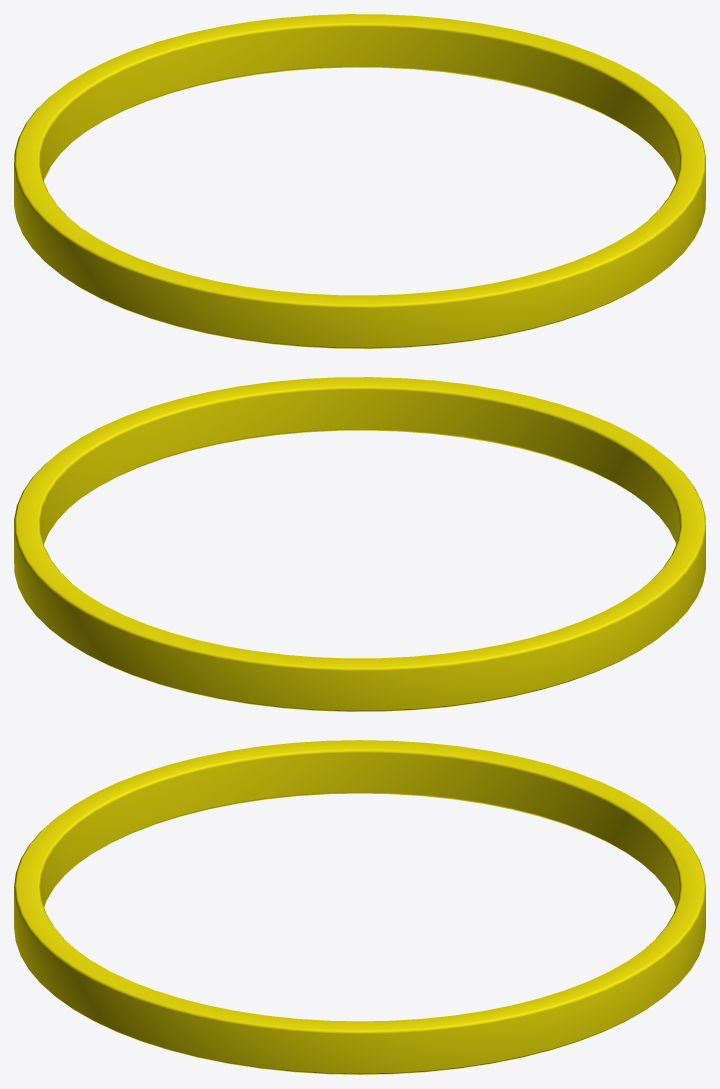
3 views of the same model, one above another, from view 1: azimuth 30°, elevation 25°; view 2: azimuth 150°, elevation 25°; view 3: azimuth 270°, elevation 25° (orthographic).
Visible parts, largest first — view 1: seal_body; view 2: seal_body; view 3: seal_body.
Boxes of the visible parts, x1,y1,x2,y2 form: seal_body: (14, 14, 705, 348); seal_body: (14, 377, 705, 711); seal_body: (14, 740, 705, 1074).
Bounding box in the file's own units: 0.105 × 0.0075 × 0.105.
